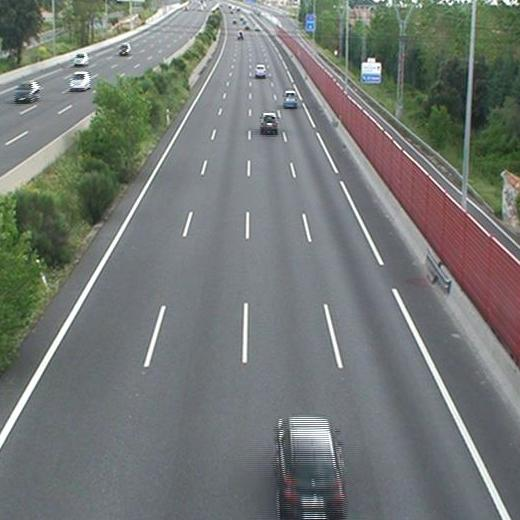car: (276, 417, 345, 515), (261, 113, 278, 130), (283, 89, 299, 107), (255, 64, 267, 76)
